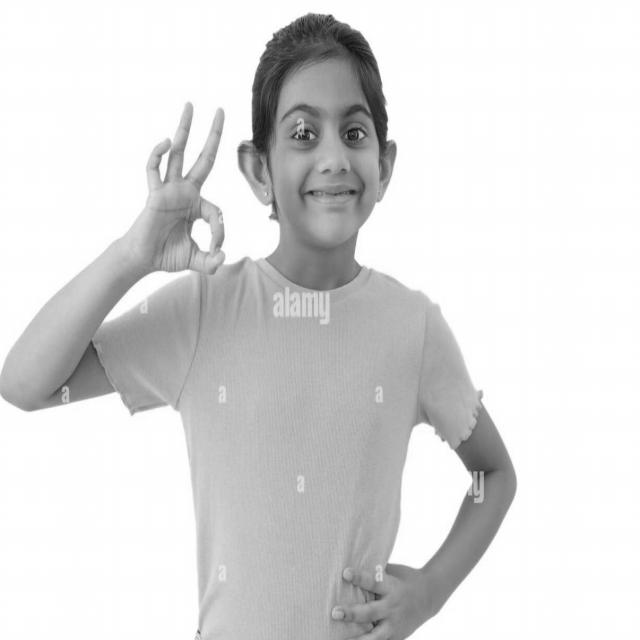perfect: (128, 95, 231, 282)
